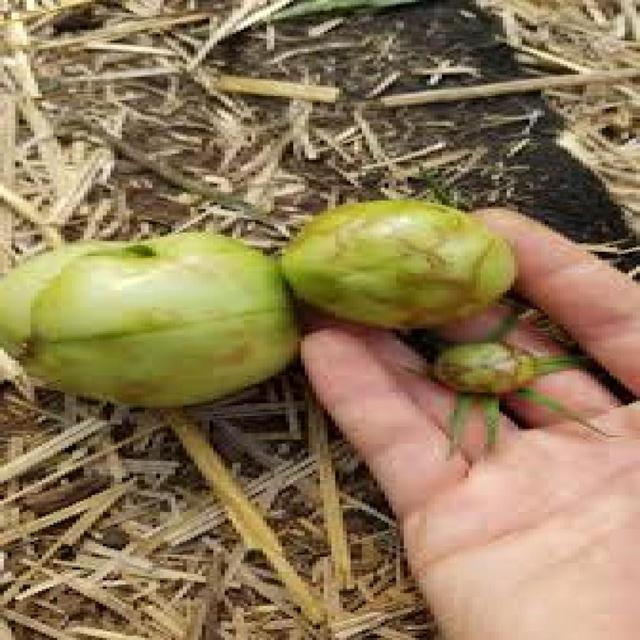Spotted wilt Virus Fruit: (74, 42, 326, 247)
